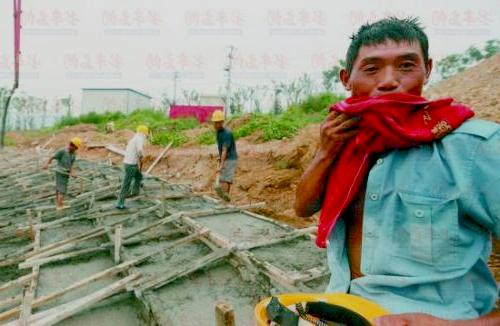no_helmet: (326, 14, 433, 127)
